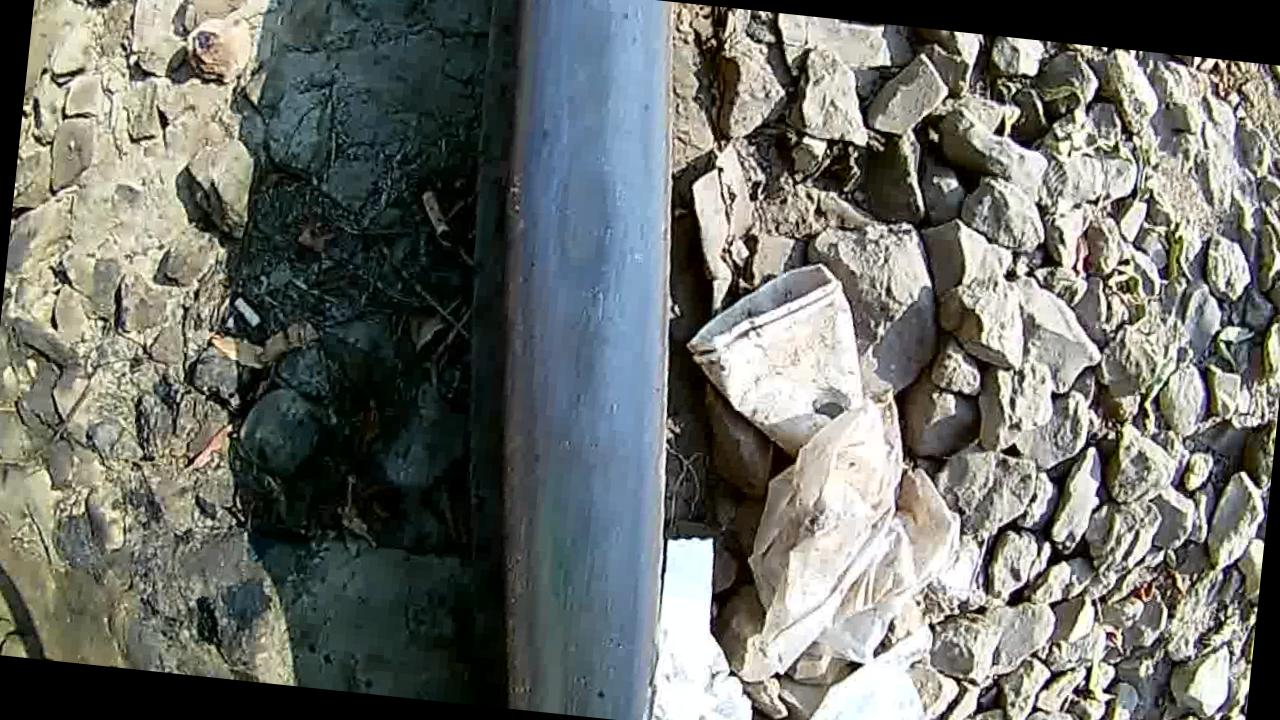bolt_missing: (452, 0, 697, 464)
